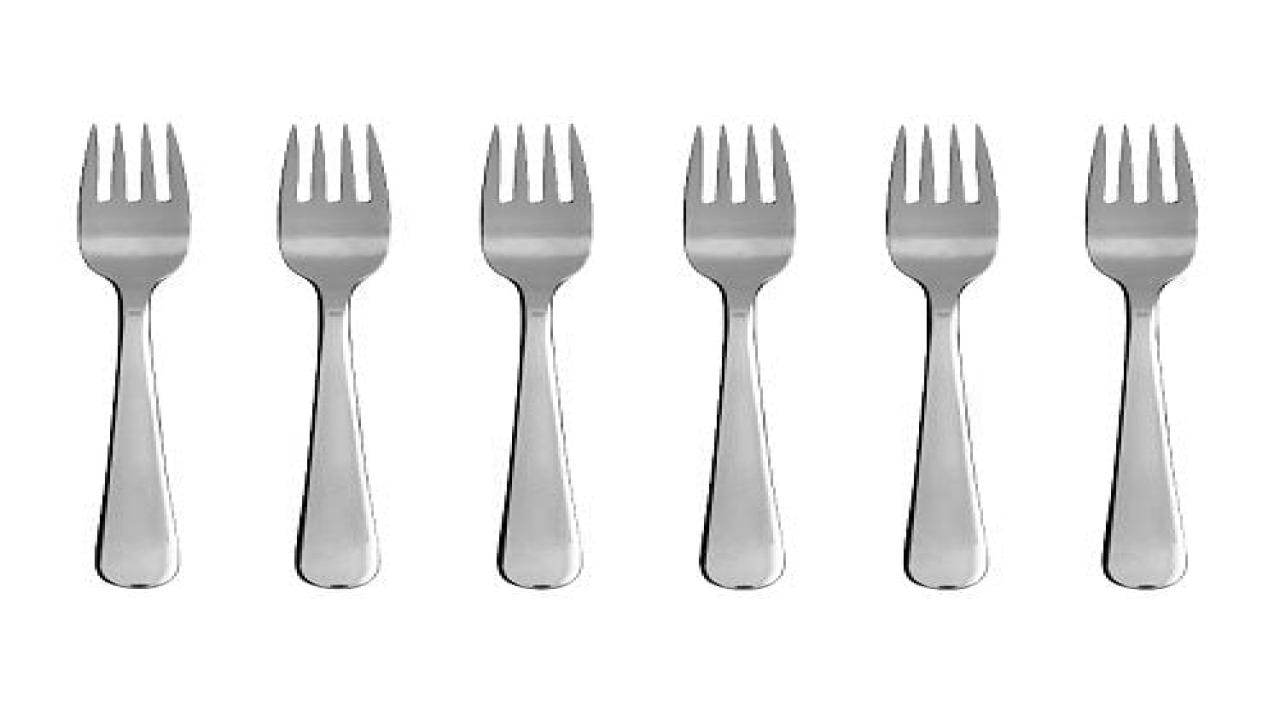fork: (74, 121, 190, 587), (1083, 121, 1198, 589), (681, 122, 796, 589), (274, 121, 389, 587), (884, 121, 998, 589), (479, 121, 591, 589)
